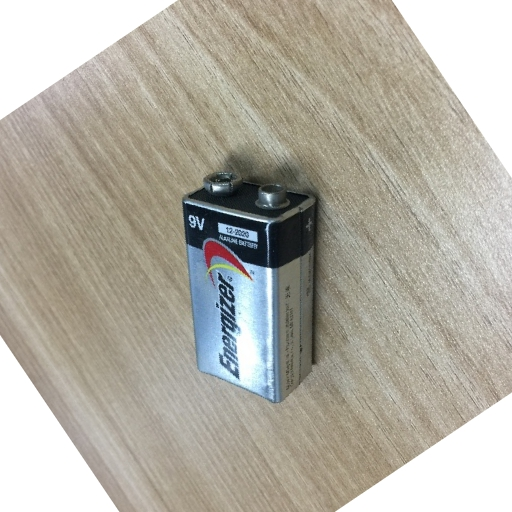Battery_3: (167, 157, 339, 410)
